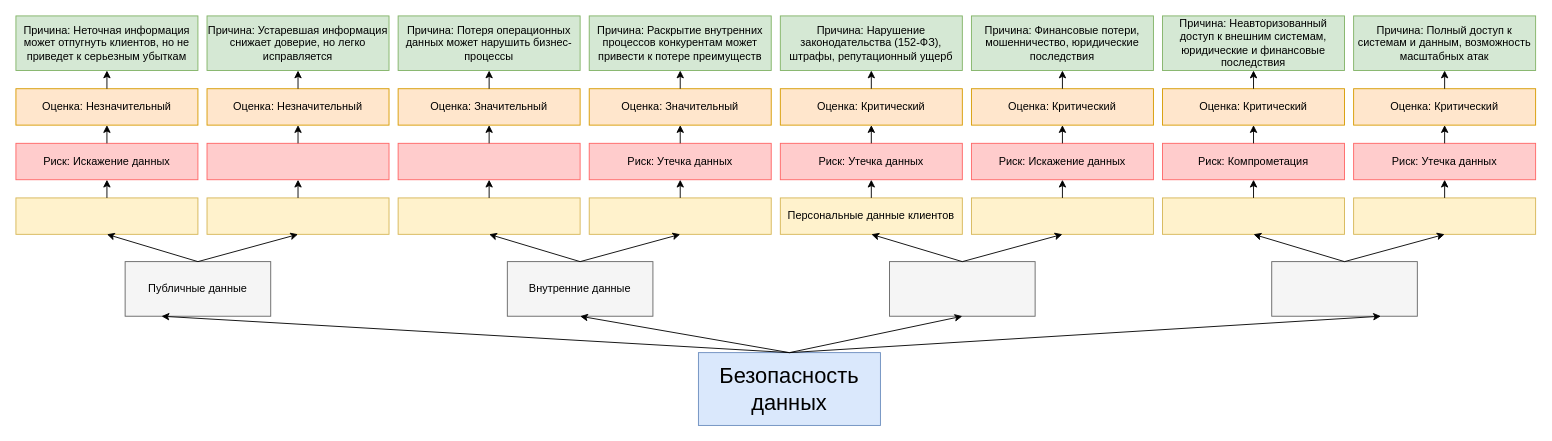
The diagram is 1552 pixels wide and 441 high, and some of its shapes have lost their labels. Each missing label, with the centre of its shape:
"Бизнес-процессы" belongs at point 679,215.
"Интеграционные ключи API" belongs at point 1253,215.
"Информация о жилых комплексах" belongs at point 297,215.
"Каталог объектов недвижимости" belongs at point 106,215.
"Ключи шифрования" belongs at point 1444,215.
"Конфиденциальные данные" belongs at point 962,288.
"Метрики использования систем" belongs at point 488,215.
"Риск: Обесценивание данных" belongs at point 297,161.
"Риск: Потеря данных" belongs at point 488,161.
"Секретные данные" belongs at point 1344,288.
"Финансовые транзакции" belongs at point 1062,215.
